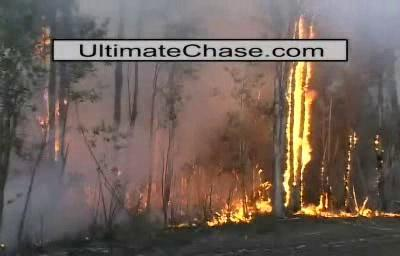fire: (282, 6, 325, 218), (208, 176, 274, 230), (305, 202, 399, 220)
